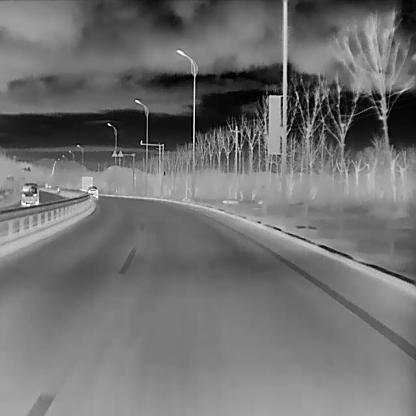car: (19, 182, 38, 207), (86, 186, 97, 198)
truck: (79, 176, 93, 192)
